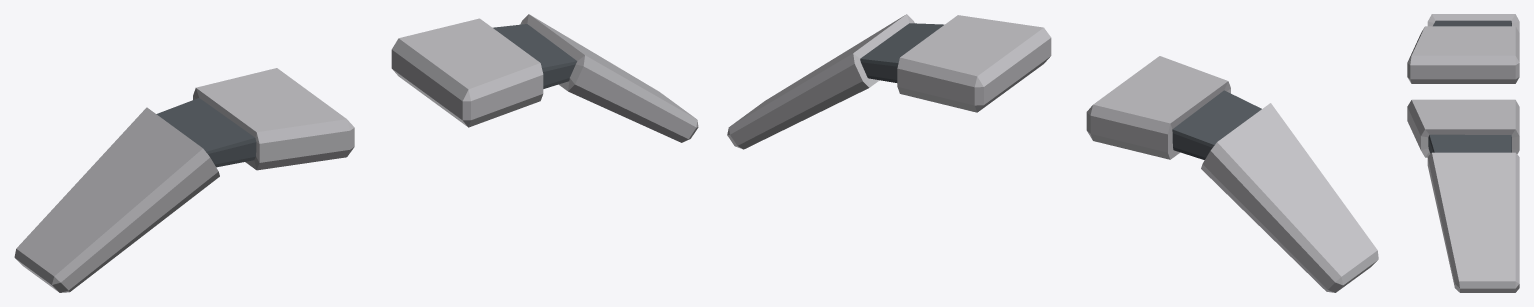
The model's file is Personal_Vehicle_04_Auxillary_Wings.fbx.
3 renders of one model, left to right at view 1: azimuth 30°, elevation 25°; view 2: azimuth 150°, elevation 25°; view 3: azimuth 270°, elevation 25°, orthographic. The views are drawn at different scales.
Visible parts, largest first — view 1: Personal_Vehicle_04_Auxillary_Wings; view 2: Personal_Vehicle_04_Auxillary_Wings; view 3: Personal_Vehicle_04_Auxillary_Wings.
Boxes of the visible parts, x1,y1,x2,y2 form: Personal_Vehicle_04_Auxillary_Wings: (14,14,698,292); Personal_Vehicle_04_Auxillary_Wings: (727,14,1378,292); Personal_Vehicle_04_Auxillary_Wings: (1407,14,1519,292).
Bounding box in the file's own units: 166 × 33.44 × 33.49.
Materials: 1 (1 with a texture image).
